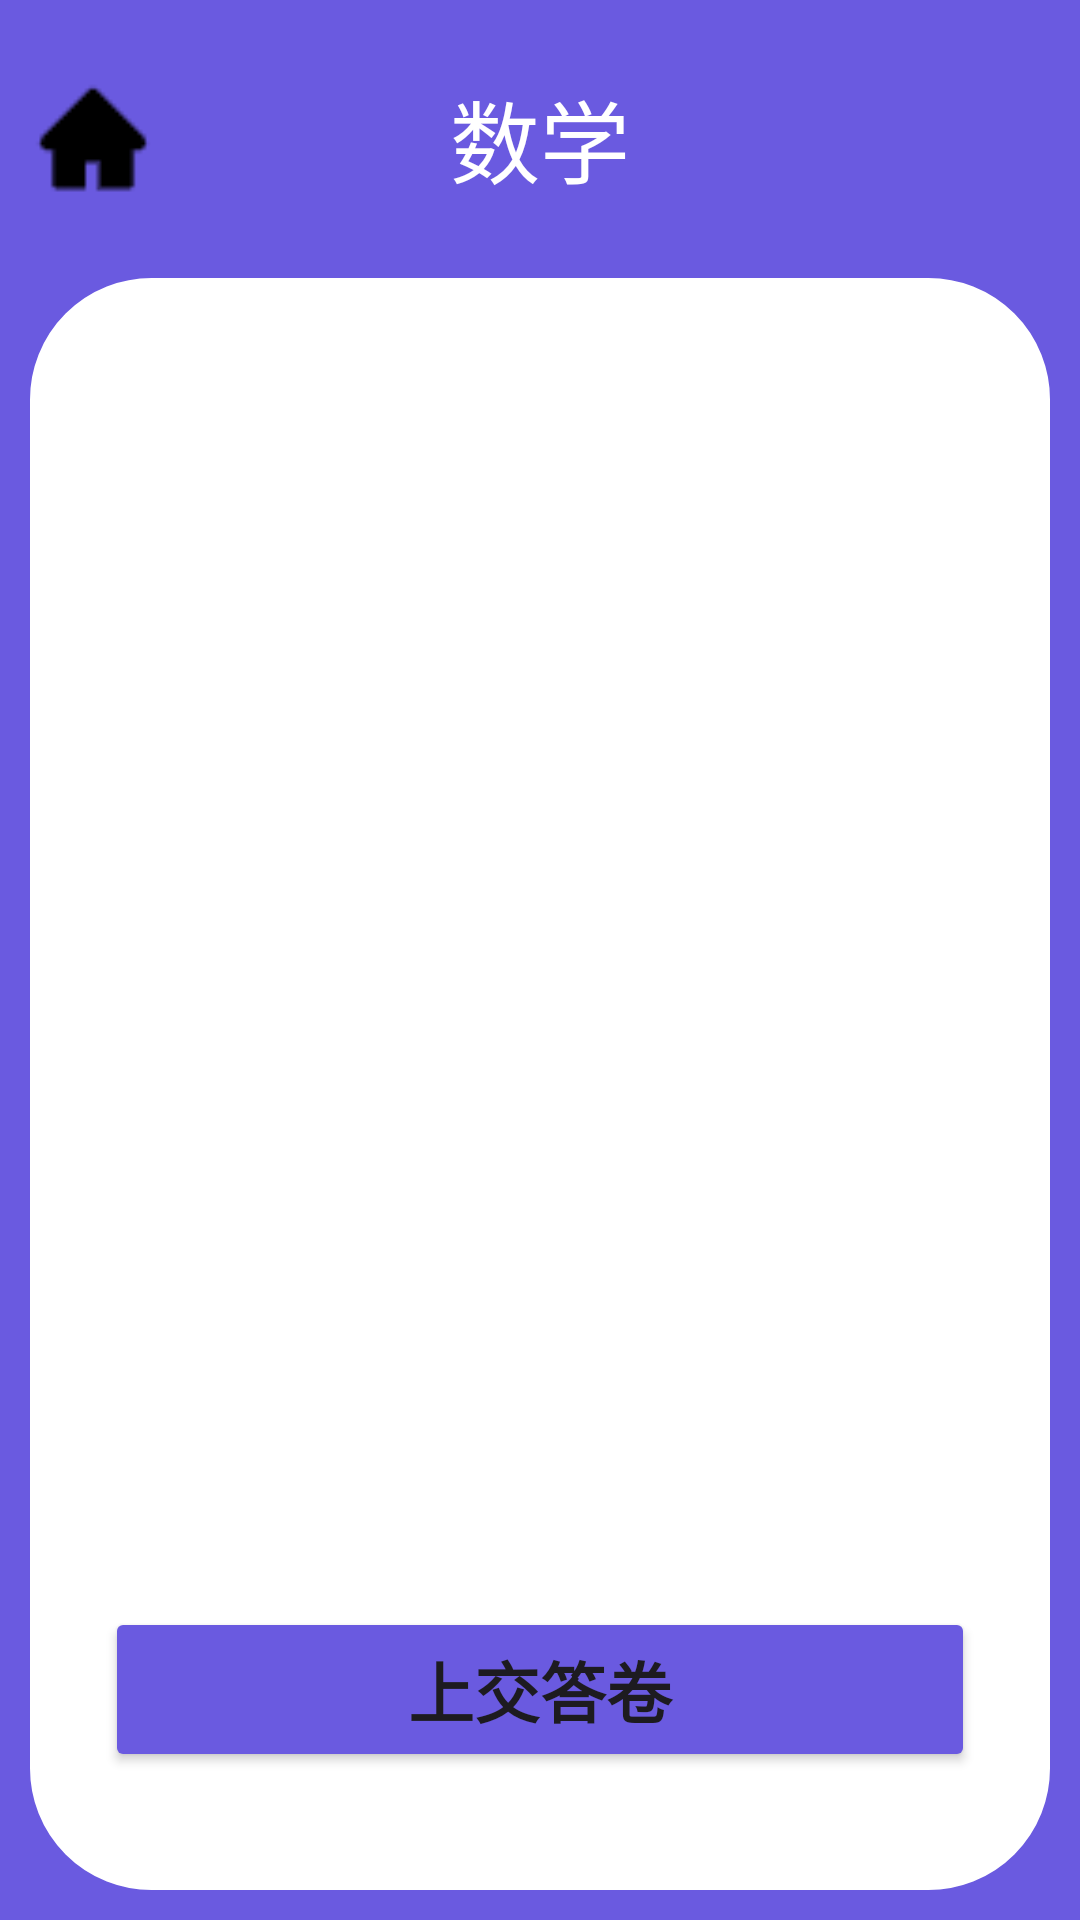

Locate icon controls on the screen. Image size 1080*1920, boxes as (x1, y1, x2, y2).
home back: (39, 87, 147, 192)
